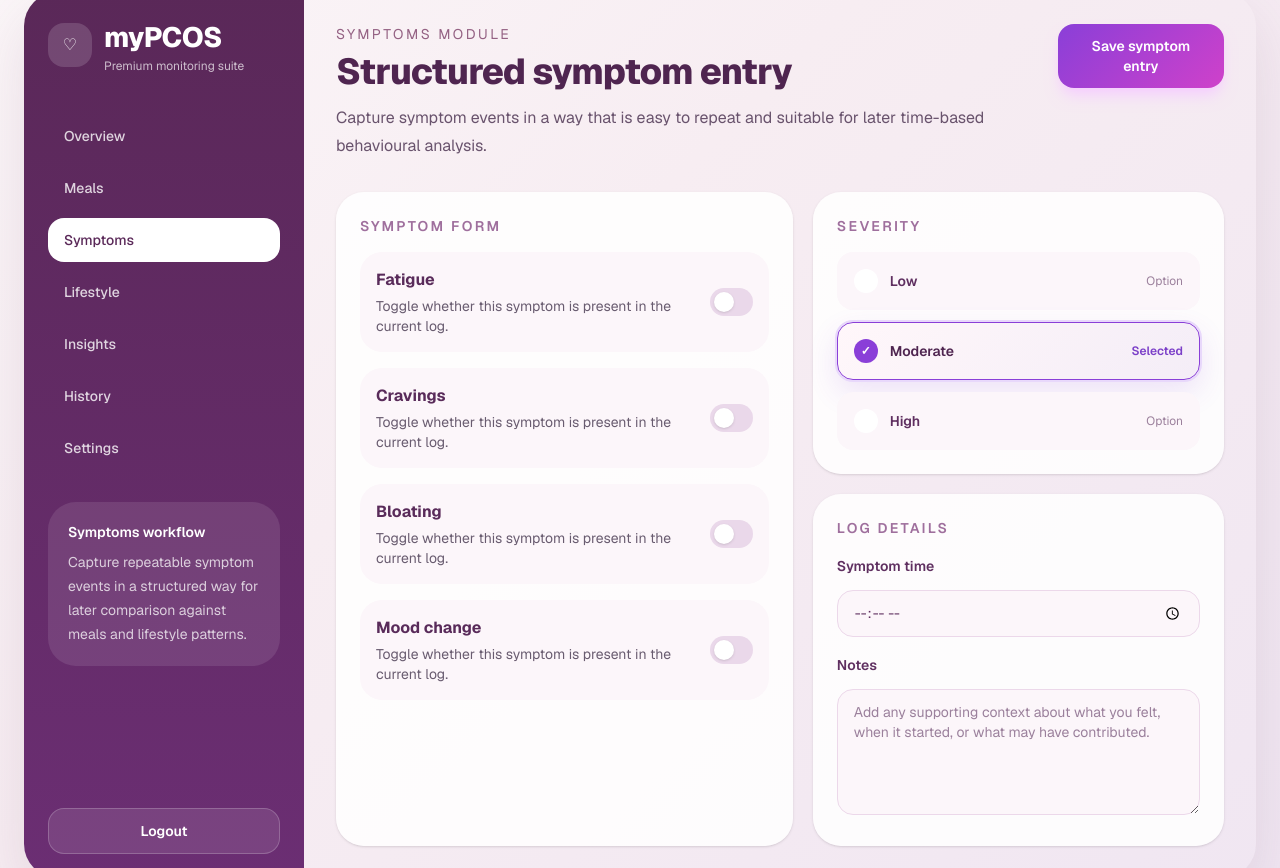
Test: symptoms page › saves a symptom entry and resets the form
The width and height of the screenshot is (1280, 868).
Click the button "Fatigue" at (564,302), box [360,252,769,352]
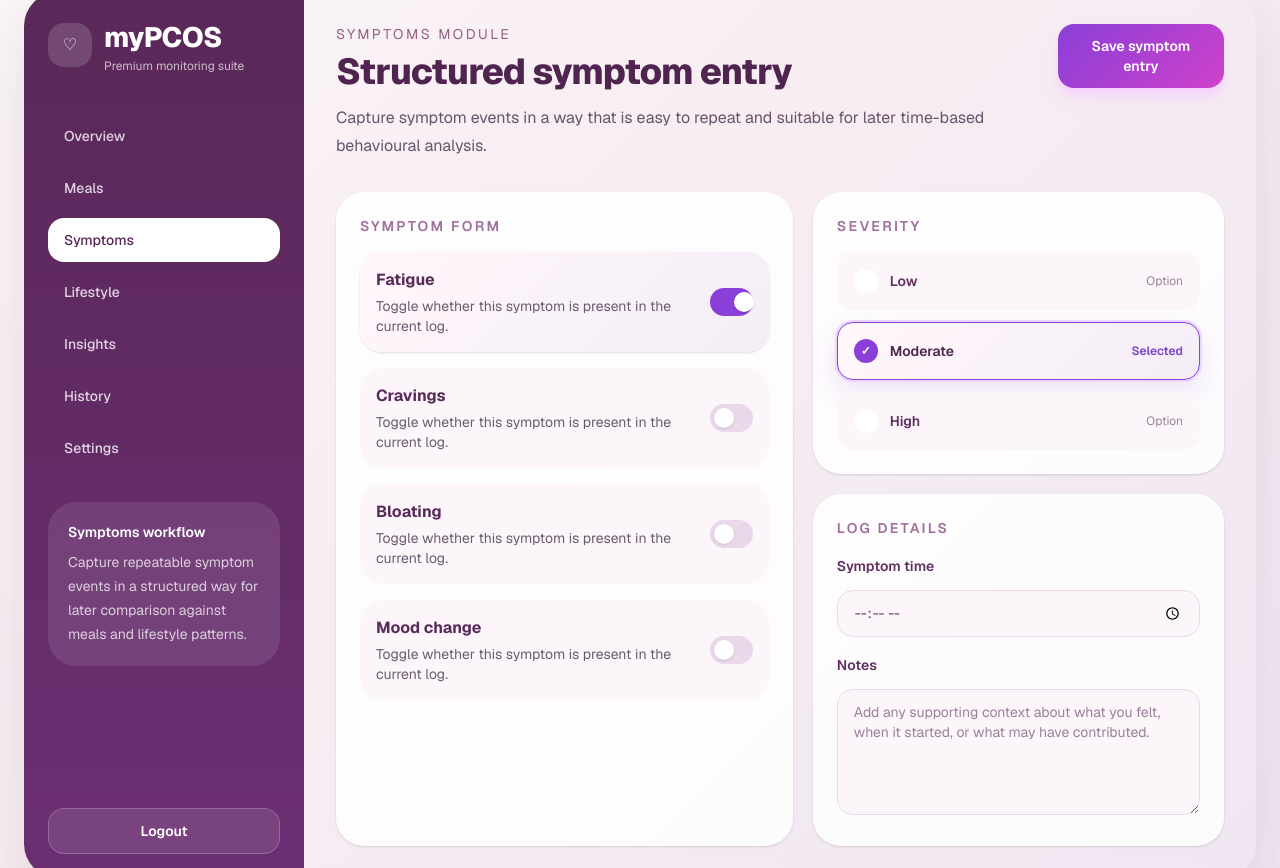
Click the button "High Option" at (905,421), box [837,392,1200,450]
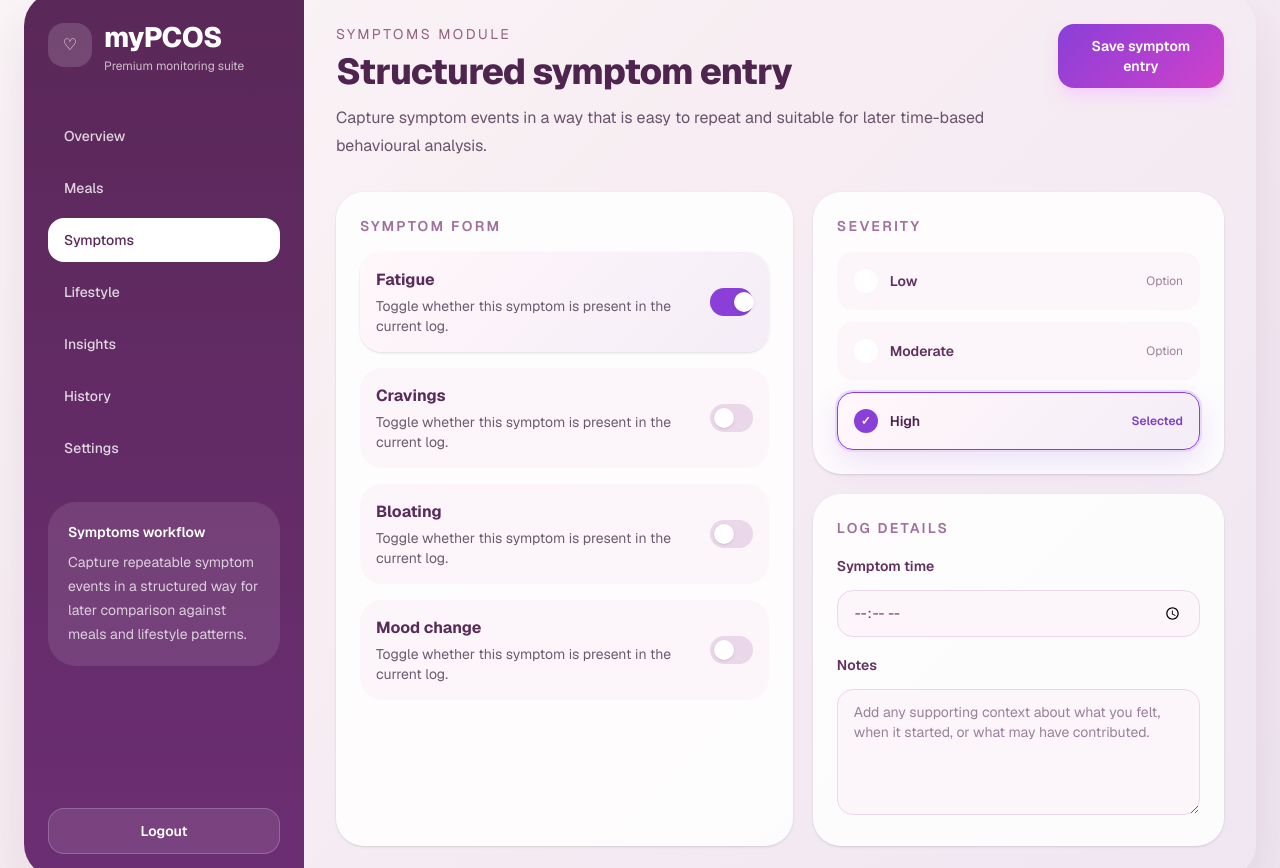
Type "09:30" into the time field labelled "Symptom time" at (1018,613), box [837,590,1200,637]
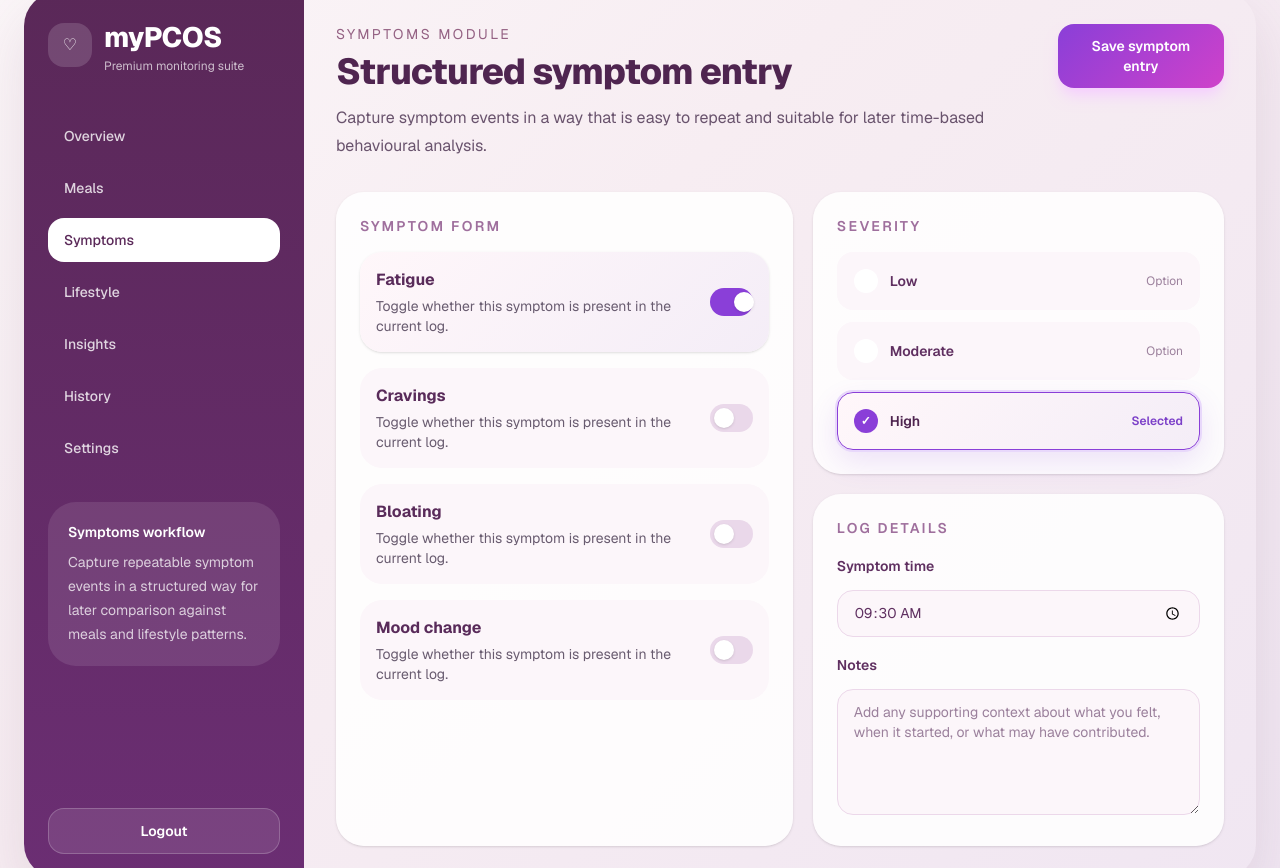
Replace the text in the text box labelled "Notes" with "Symptoms felt stronger before breakfast." at (1018,752), box [837,689,1200,815]
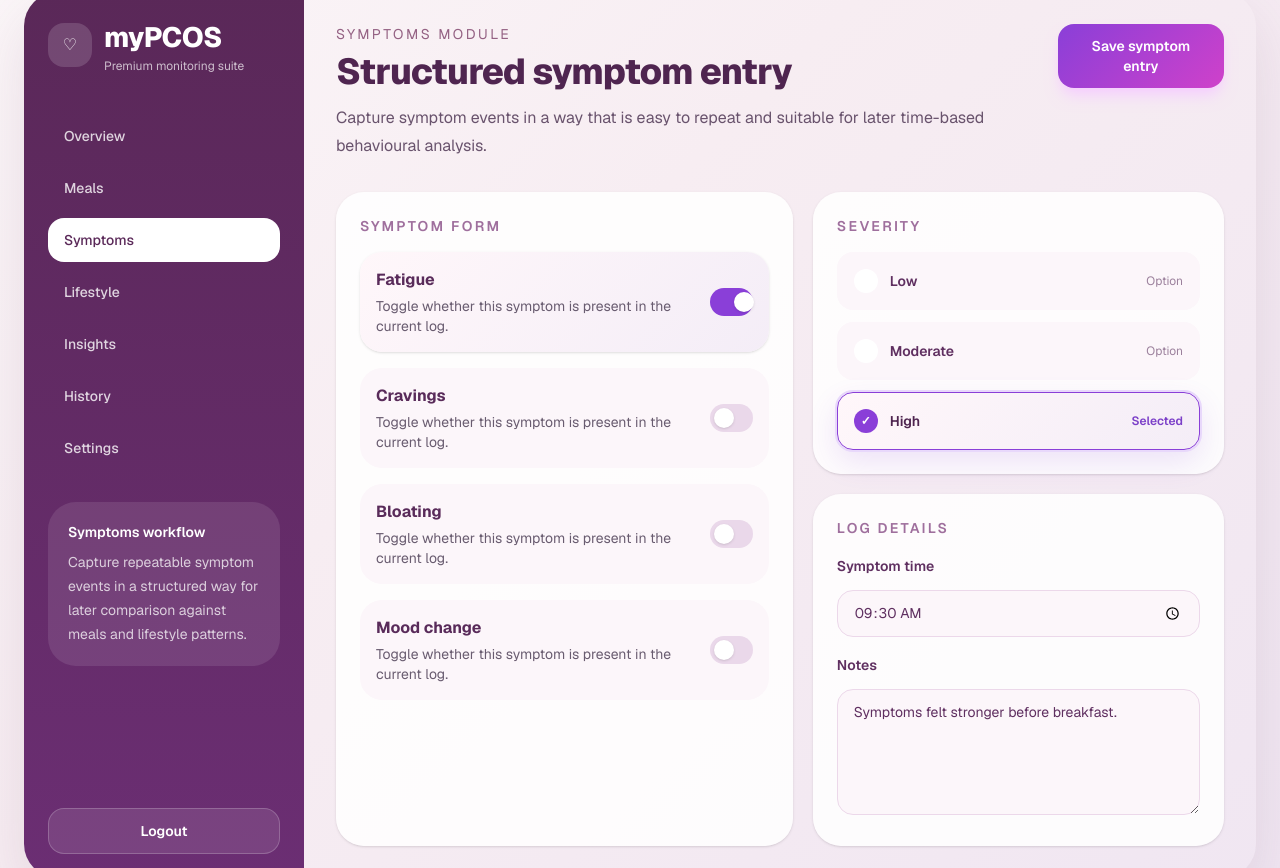
Click the button "Save symptom entry" at (1141,56), box [1058,24,1224,88]
(page scrolled)
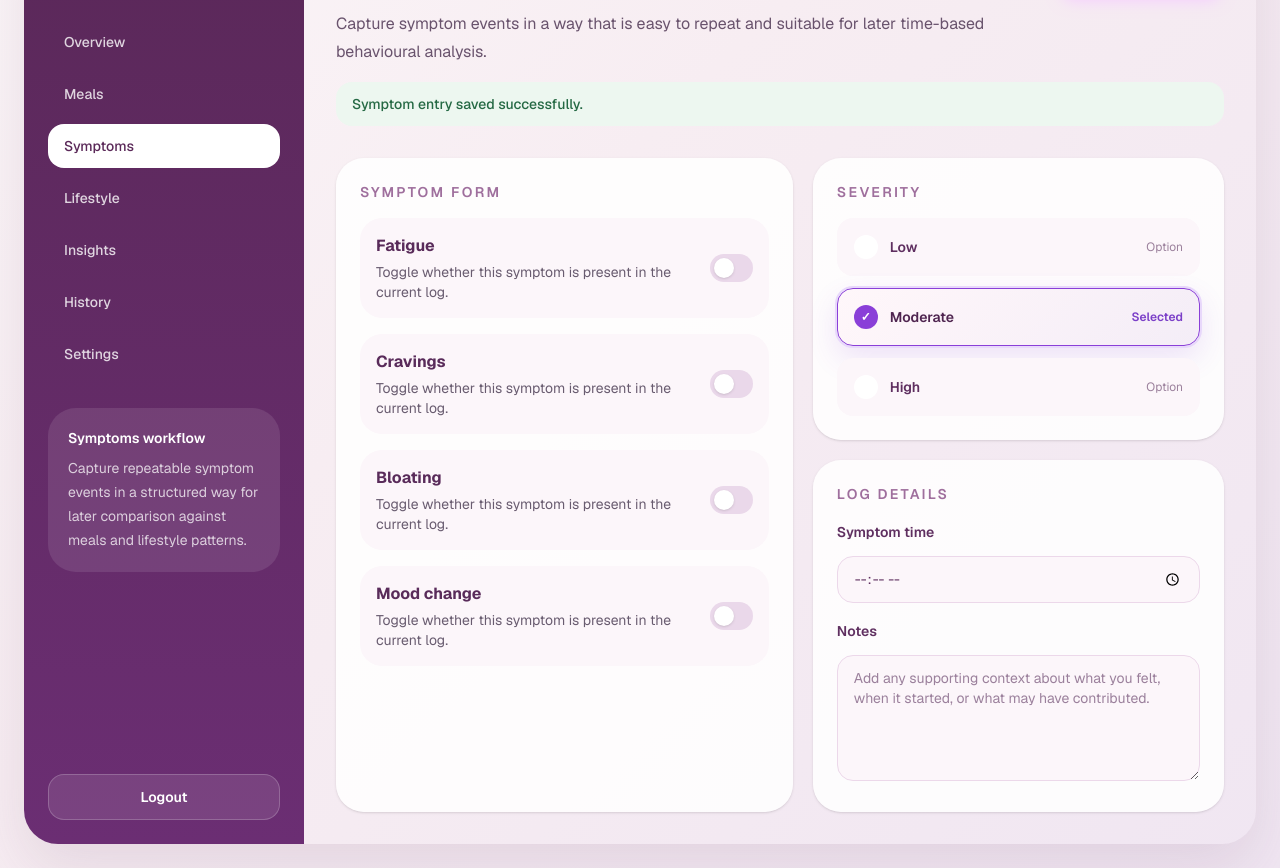
Now the text "Symptom entry saved successfully." is shown, box [336,82,1224,126]
Now the time field labelled "Symptom time" is empty, box [837,556,1200,603]
Now the text box labelled "Notes" is empty, box [837,655,1200,781]
